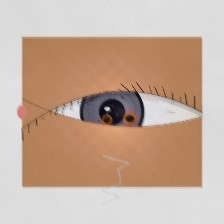foreign_body_visible: (68, 73, 91, 91)
